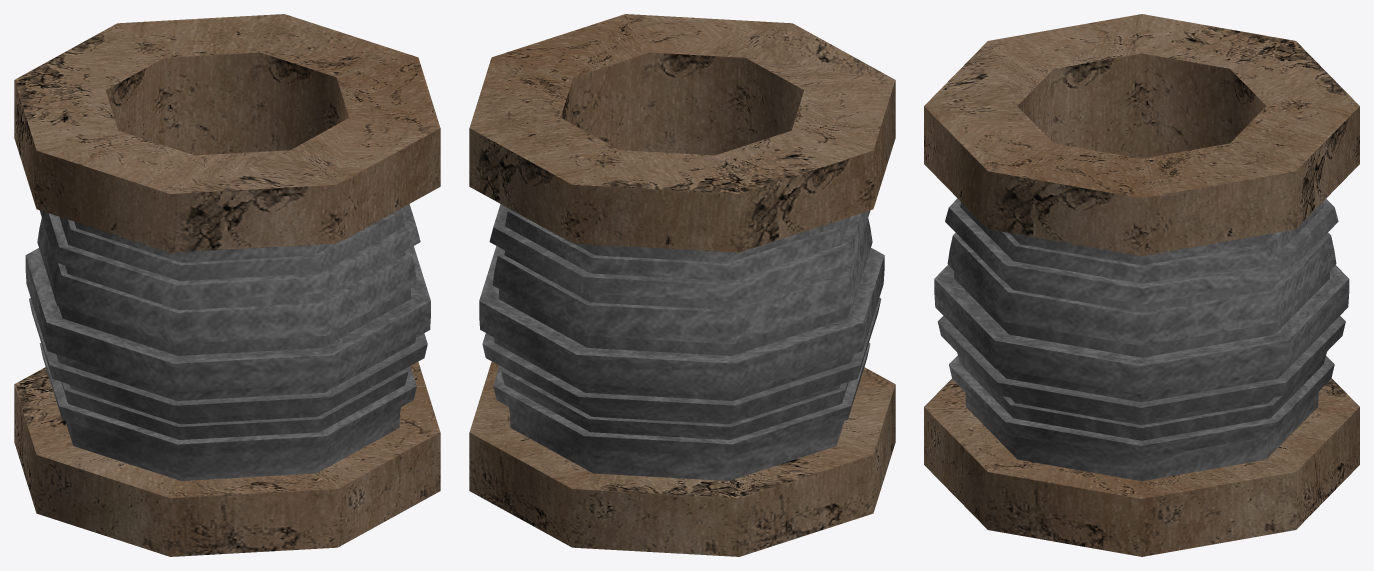
File: CarreteEstambreBlanco.fbx
The picture shows the model from 3 angles, left to right: view 1: azimuth 30°, elevation 25°; view 2: azimuth 150°, elevation 25°; view 3: azimuth 270°, elevation 25°; orthographic projection.
Visible parts, largest first — view 1: CarreteHilo.003; view 2: CarreteHilo.003; view 3: CarreteHilo.003.
Part boxes in pixels (x1,y1,x2,y2): CarreteHilo.003: (14, 14, 440, 556); CarreteHilo.003: (469, 14, 895, 556); CarreteHilo.003: (924, 14, 1359, 556).
Size of the model in its own units: 116 by 105 by 116.
1 material, 1 textured.
